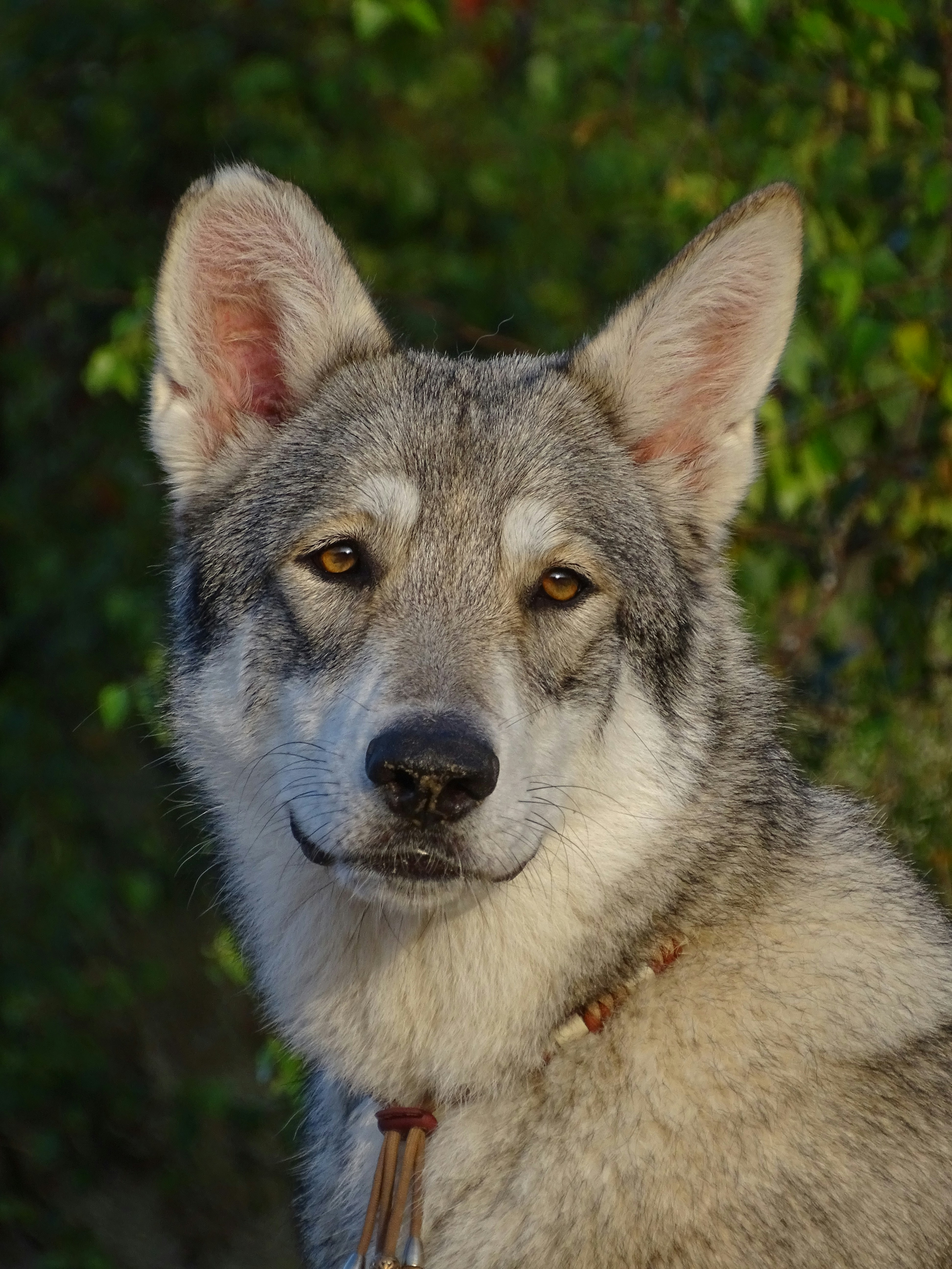dog-nose-detector: (360, 715, 502, 820)
